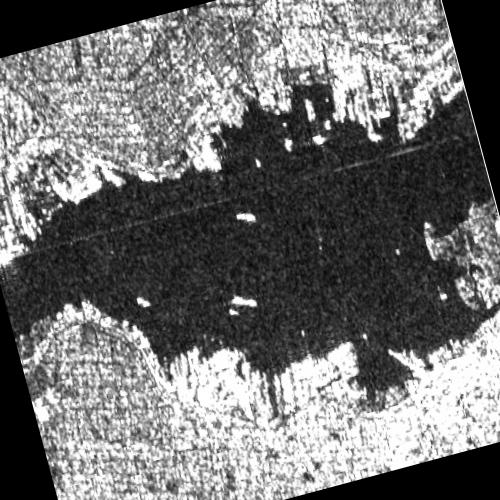ship: (231, 293, 258, 307), (235, 211, 258, 222), (311, 134, 326, 147), (137, 296, 151, 308), (283, 137, 293, 153), (227, 307, 240, 317)
